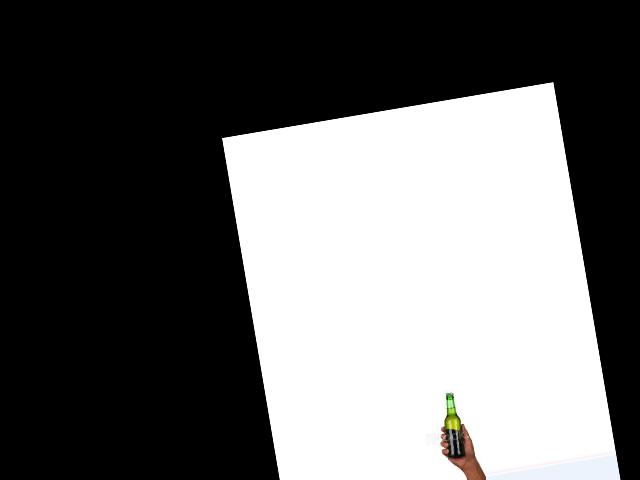beer: (439, 391, 467, 458)
